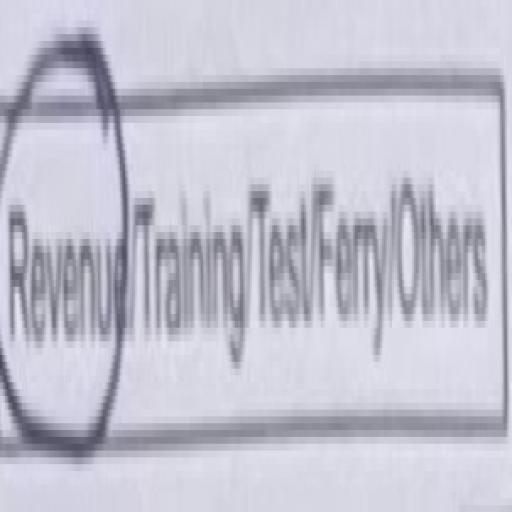check: (0, 13, 126, 512)
